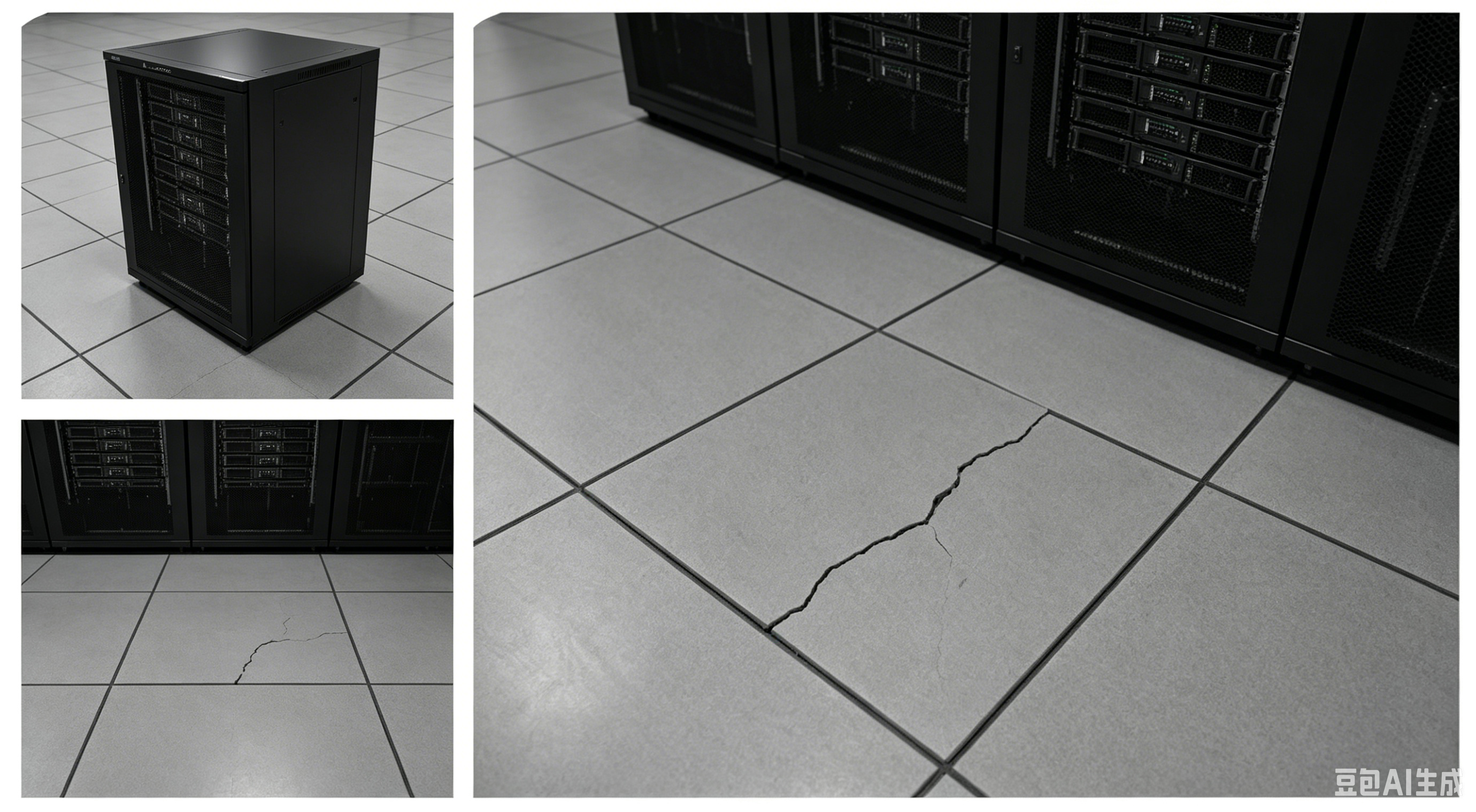floor_defect: (762, 541, 854, 634), (233, 622, 344, 683), (851, 512, 951, 569), (932, 447, 996, 519), (979, 399, 1052, 452)
